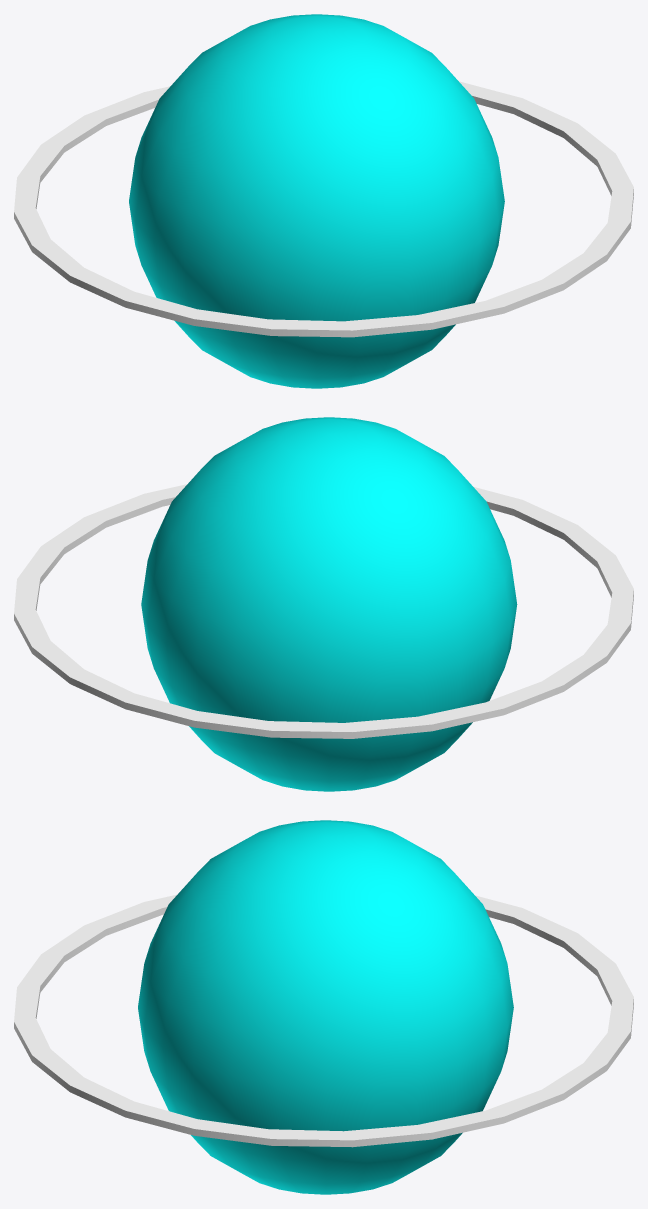
The model's file is Hidrogeno.fbx.
The picture shows the model from 3 angles, top to bottom: view 1: azimuth 30°, elevation 25°; view 2: azimuth 150°, elevation 25°; view 3: azimuth 270°, elevation 25°; orthographic projection.
Visible parts, largest first — view 1: Model, Group1; view 2: Model, Group1; view 3: Model, Group1.
Boxes of the visible parts, box(x1,y1,x2,y2) form: Model: box(129, 14, 504, 388); Group1: box(14, 81, 633, 337); Model: box(141, 417, 517, 791); Group1: box(14, 484, 633, 738); Model: box(138, 820, 513, 1194); Group1: box(14, 894, 633, 1147).
Bounding box in the file's own units: 3.3 × 2 × 3.3.
